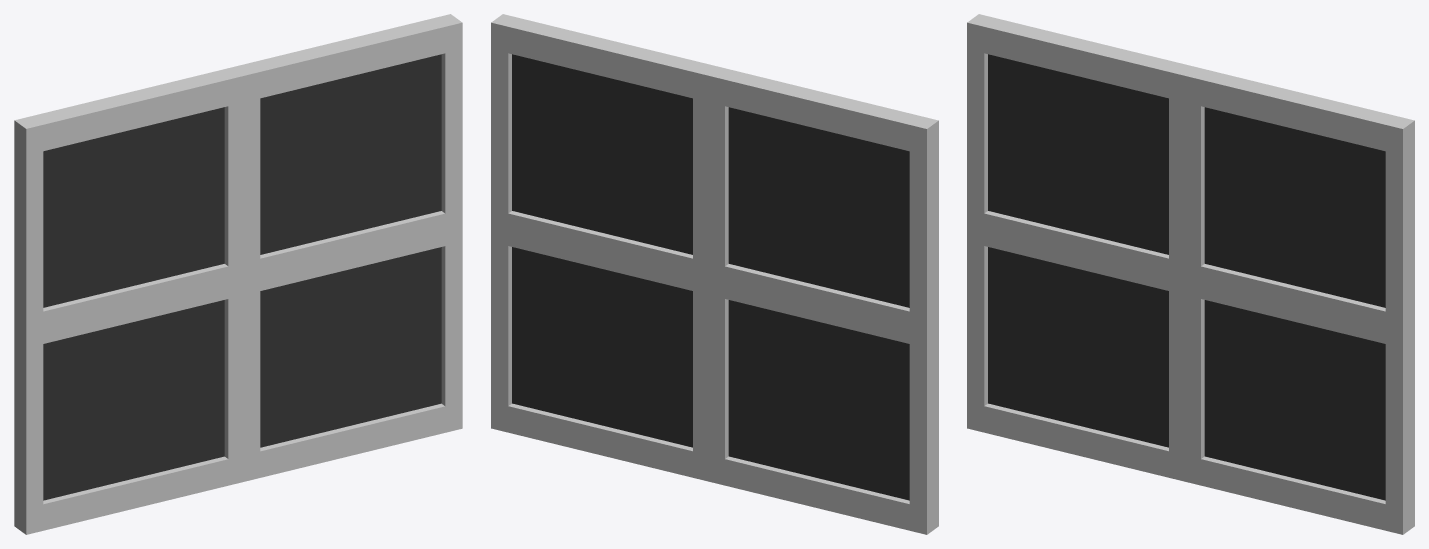
Rendered from P_Exit_Door.fbx.
3 views of the same model, side by side, from view 1: azimuth 30°, elevation 25°; view 2: azimuth 150°, elevation 25°; view 3: azimuth 330°, elevation 25° (orthographic).
Visible parts, largest first — view 1: P_Exit_Door; view 2: P_Exit_Door; view 3: P_Exit_Door.
Part boxes in pixels (<box>): P_Exit_Door: <box>14,14,462,534</box>; P_Exit_Door: <box>491,14,938,534</box>; P_Exit_Door: <box>967,14,1414,534</box>.
Bounding box in the file's own units: 1320 × 62.56 × 1174.
